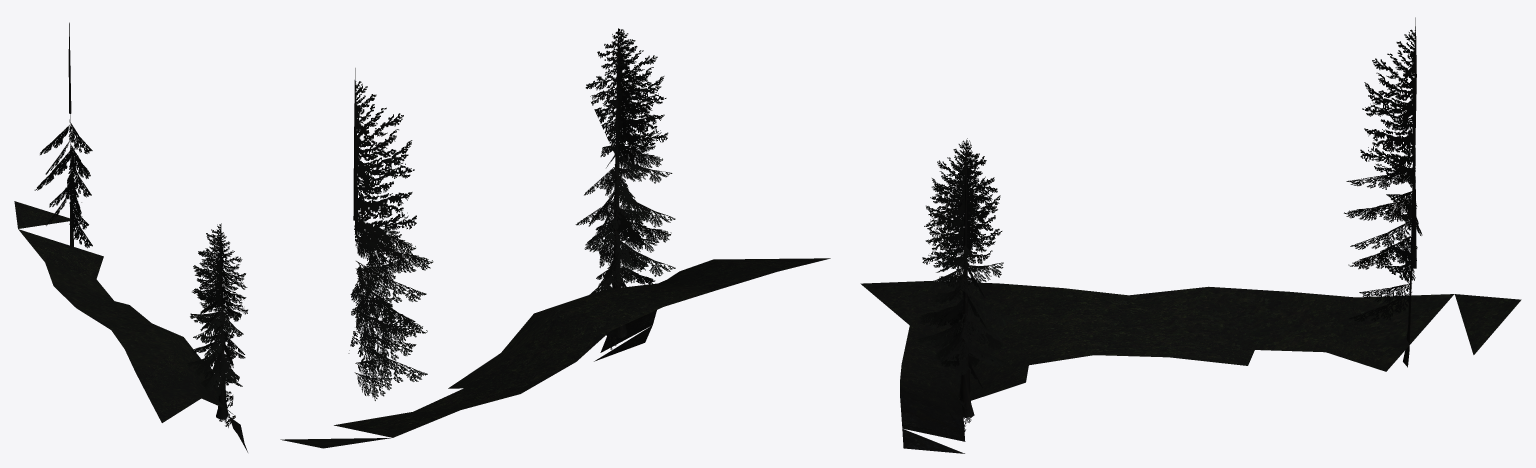
The model's file is cell_-1_-18.gltf.
The picture shows the model from 3 angles, left to right: view 1: azimuth 30°, elevation 25°; view 2: azimuth 150°, elevation 25°; view 3: azimuth 270°, elevation 25°; orthographic projection. The views are drawn at different scales.
Visible parts, largest first — view 1: cell_-1_-18; view 2: cell_-1_-18; view 3: cell_-1_-18.
Boxes of the visible parts, box(x1,y1,x2,y2) form: cell_-1_-18: box(14, 22, 247, 452); cell_-1_-18: box(280, 28, 830, 448); cell_-1_-18: box(860, 17, 1521, 453).
Bounding box in the file's own units: 35.68 × 80.34 × 111.
Materials: 7 (7 with a texture image).
